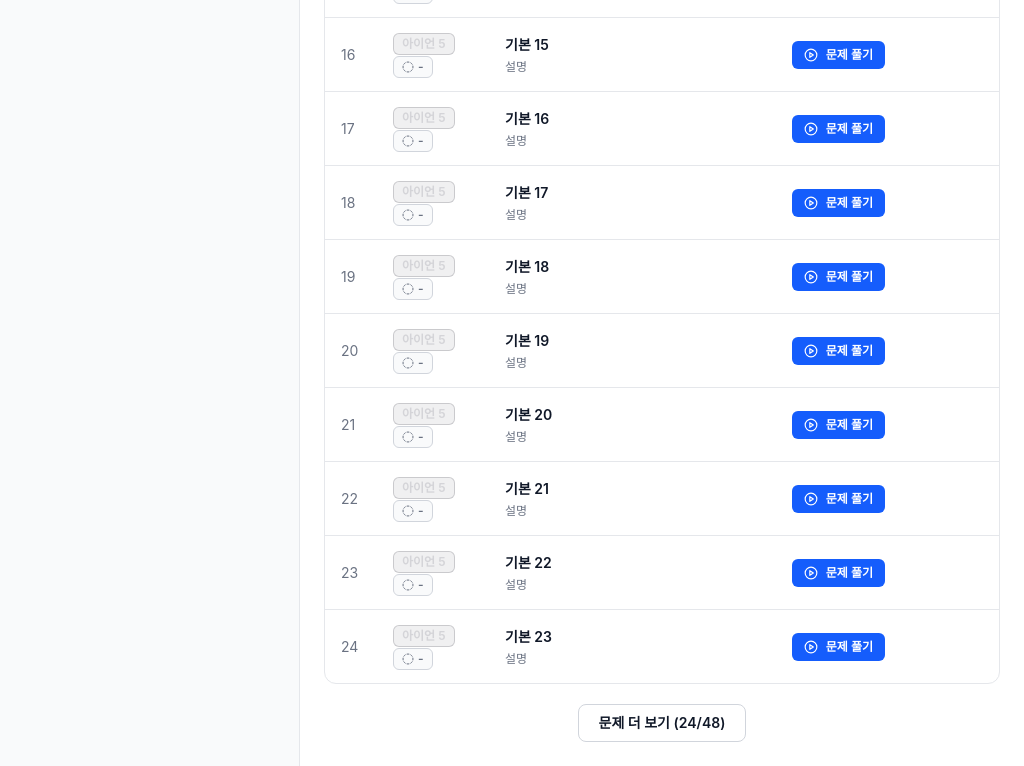
Test: Challenges paginated filters › does not append a page from an earlier filter after a new filtered page has loaded
(page scrolled)
Click the button "문제 더 보기 (24/48)" at [662, 723], box [578,704,746,742]
(page scrolled)
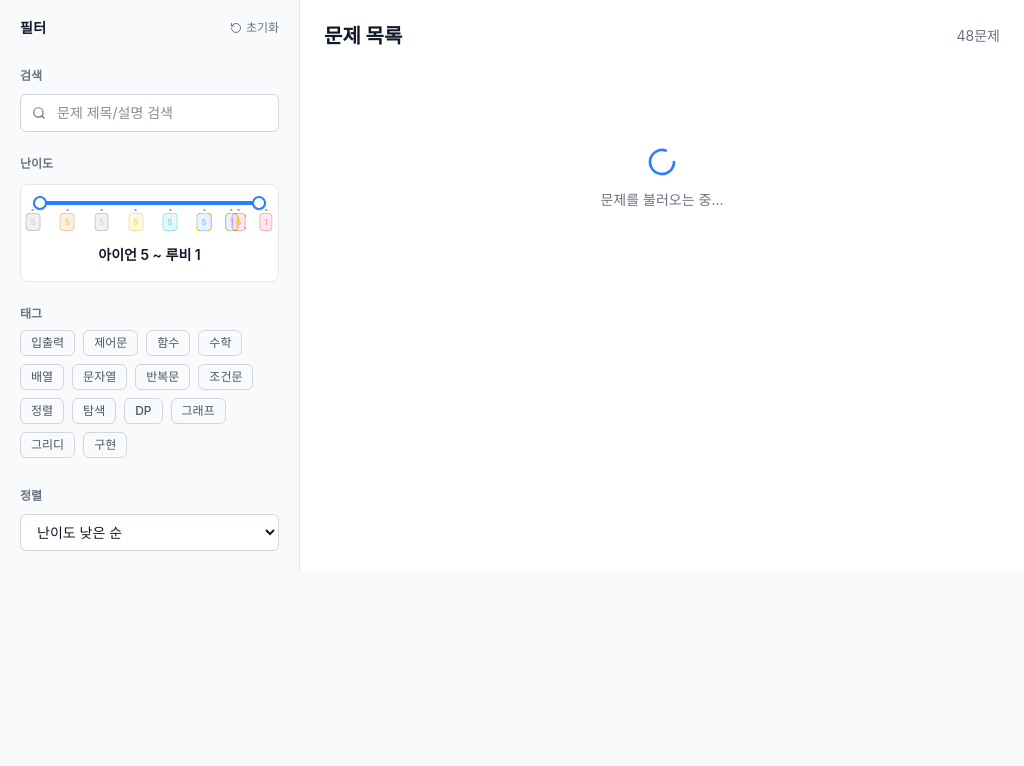
Type "needle" into the field with placeholder "문제 제목/설명 검색" at [150, 113], box [20,94,279,132]
Wait 250 ms
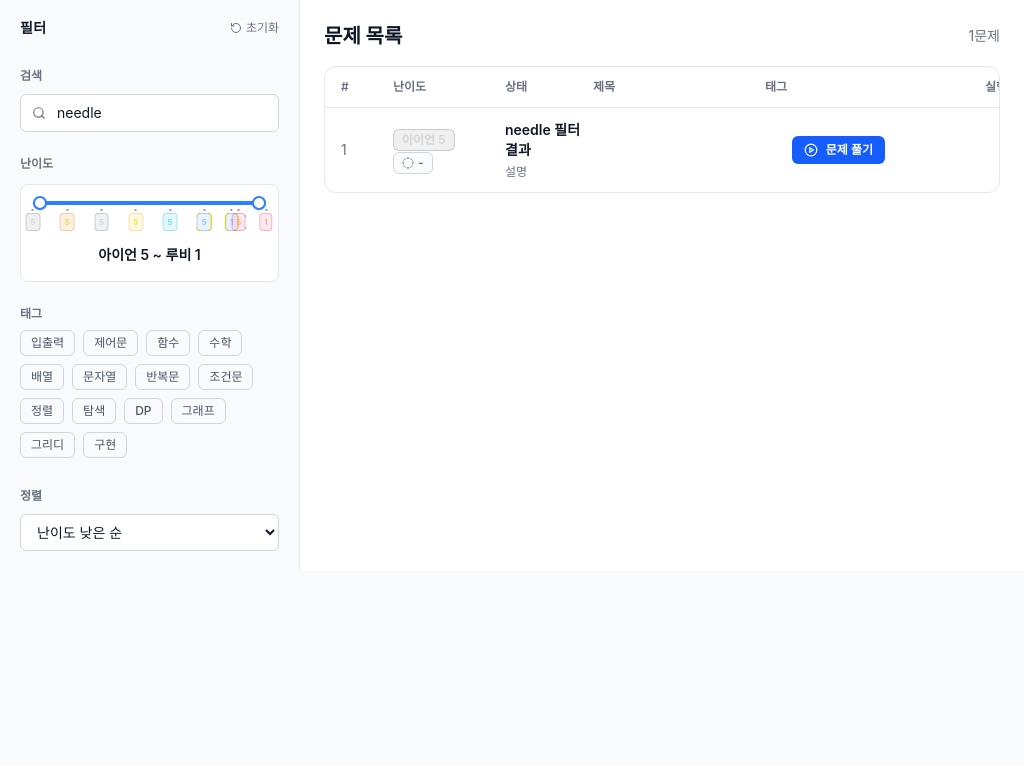
Expected: the heading "needle 필터 결과" is shown, [505,120,581,160]
Expected: the text "1문제" is shown, [968,26,1000,46]
